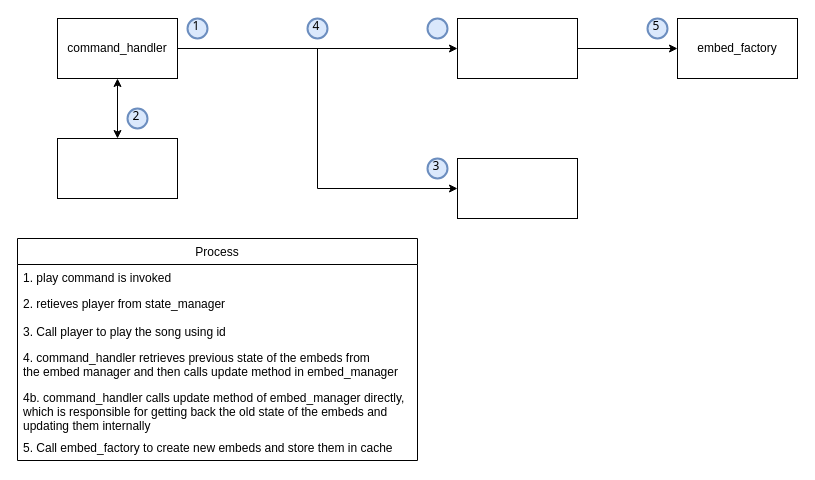
This 815x480 diagram has some shape labels left out. The shapes that lost their labels are listed below. From the top down, each one's centre as x and y in pixels, then its label:
At (x=437, y=28): "4b".
At (x=517, y=48): "embed_manager".
At (x=117, y=168): "state_manager".
At (x=517, y=188): "Player".
